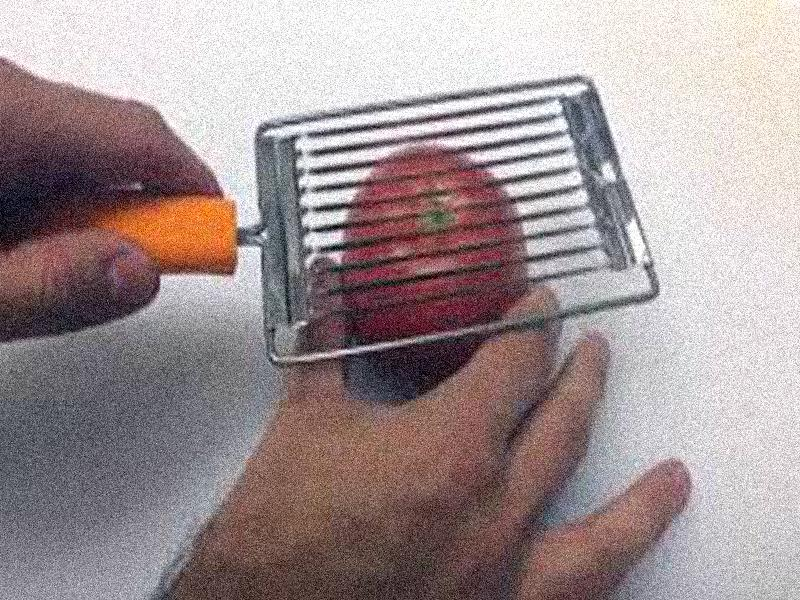Tomato: (338, 146, 522, 375)
